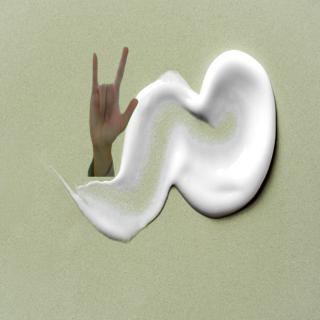ILY: (86, 44, 140, 151)
